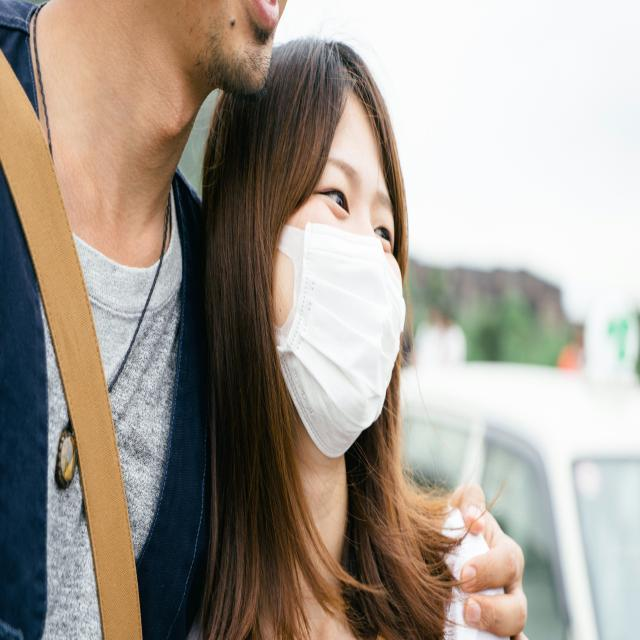adult: (198, 36, 524, 640)
